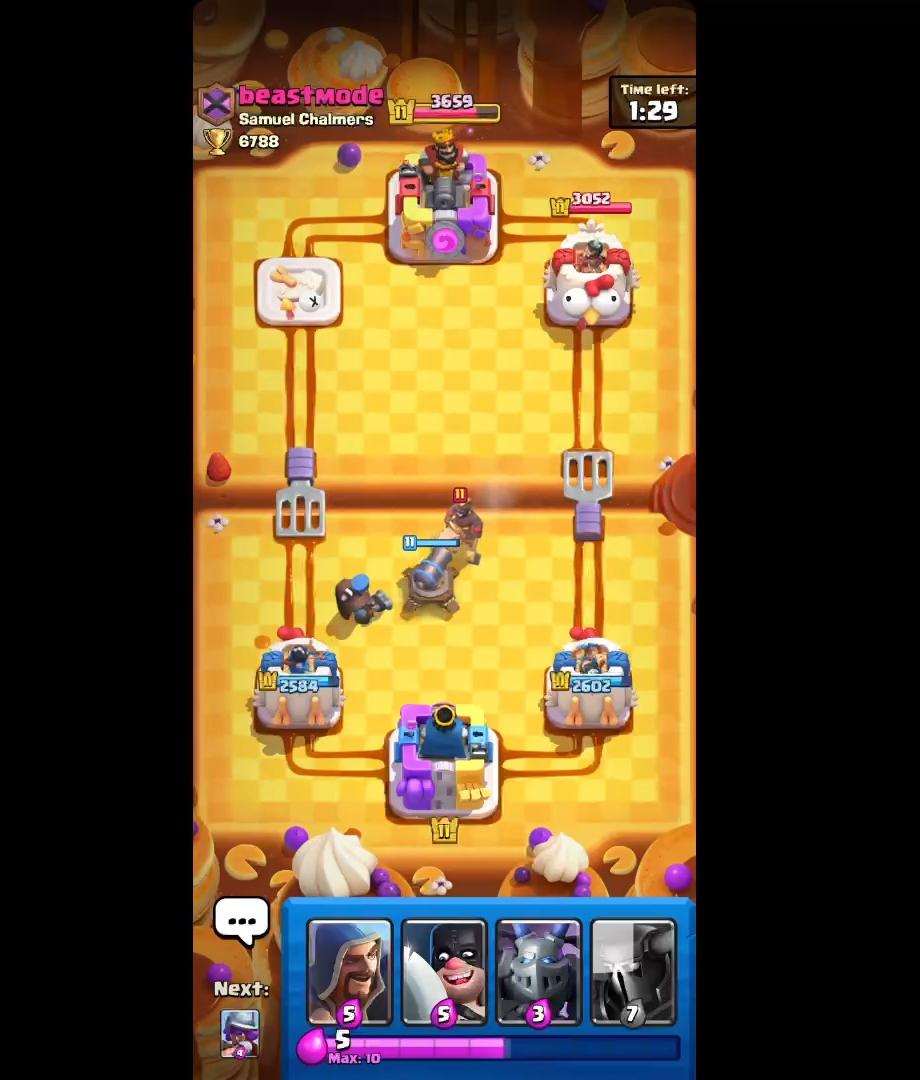Hog Rider: (440, 481, 495, 555)
